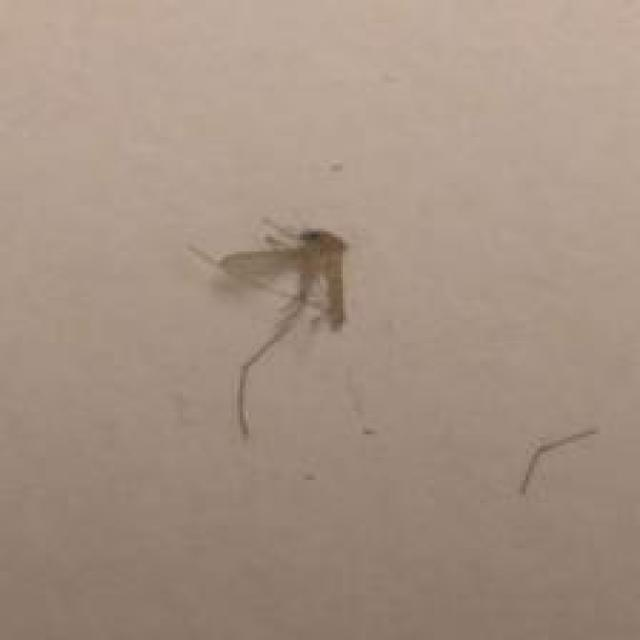Culex: (186, 214, 366, 440)
